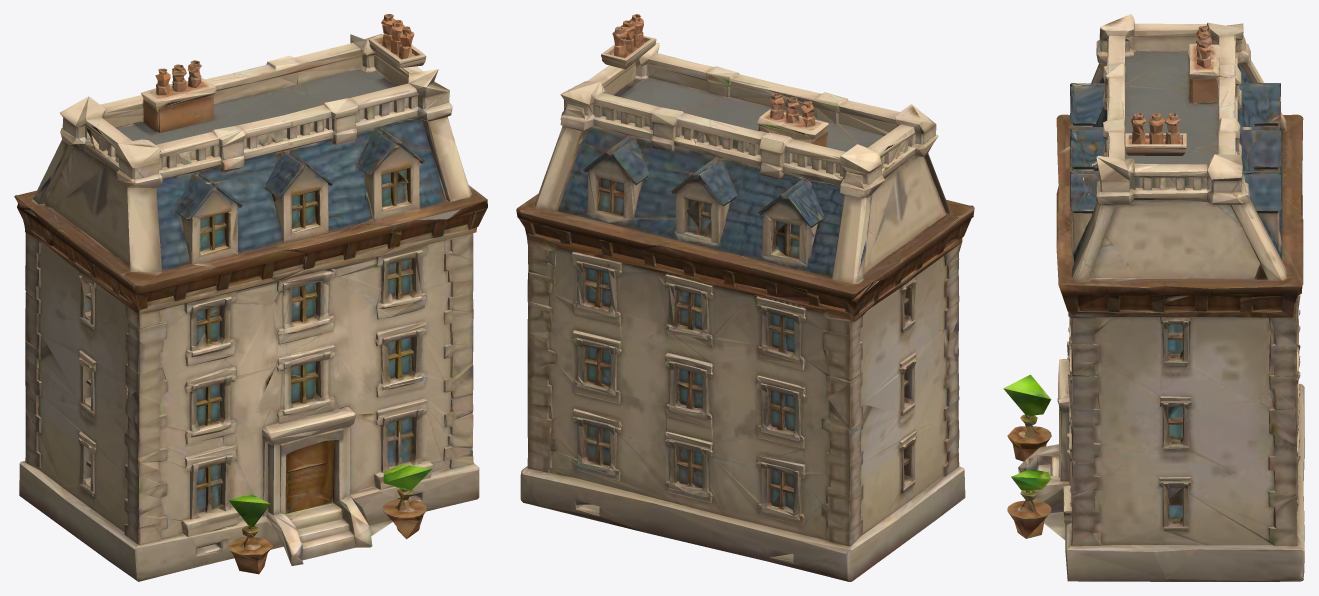
Rendered from town_flats_townhouse_tall.glb.
3 views of the same model, side by side, from view 1: azimuth 30°, elevation 25°; view 2: azimuth 150°, elevation 25°; view 3: azimuth 270°, elevation 25° (orthographic). The views are drawn at different scales.
Parts seen in each view (by area): view 1: normalize; view 2: normalize; view 3: normalize.
Part boxes in pixels (x1=…): normalize: x1=14, y1=14, x2=487, y2=581; normalize: x1=516, y1=14, x2=974, y2=581; normalize: x1=1003, y1=14, x2=1304, y2=581.
Bounding box in the file's own units: 1 × 1.22 × 0.7401.
Materials: 1 (1 with a texture image).
